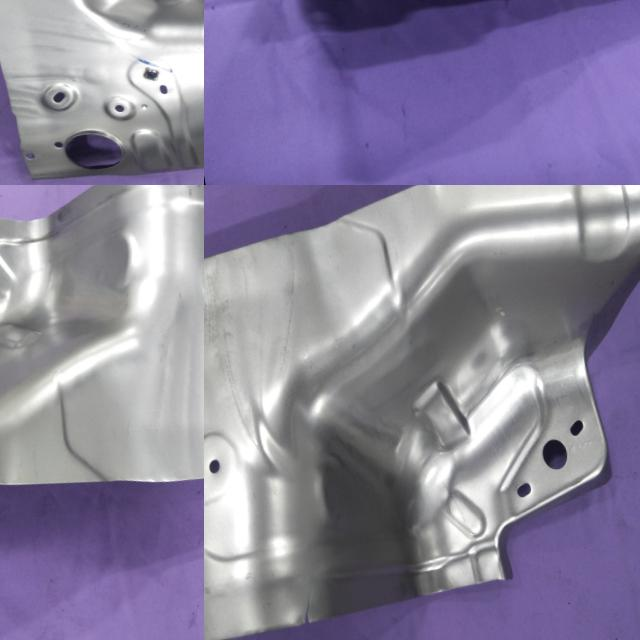Defect: (283, 572, 326, 640)
Healthy: (0, 185, 204, 562), (0, 0, 204, 185), (204, 0, 640, 49)
